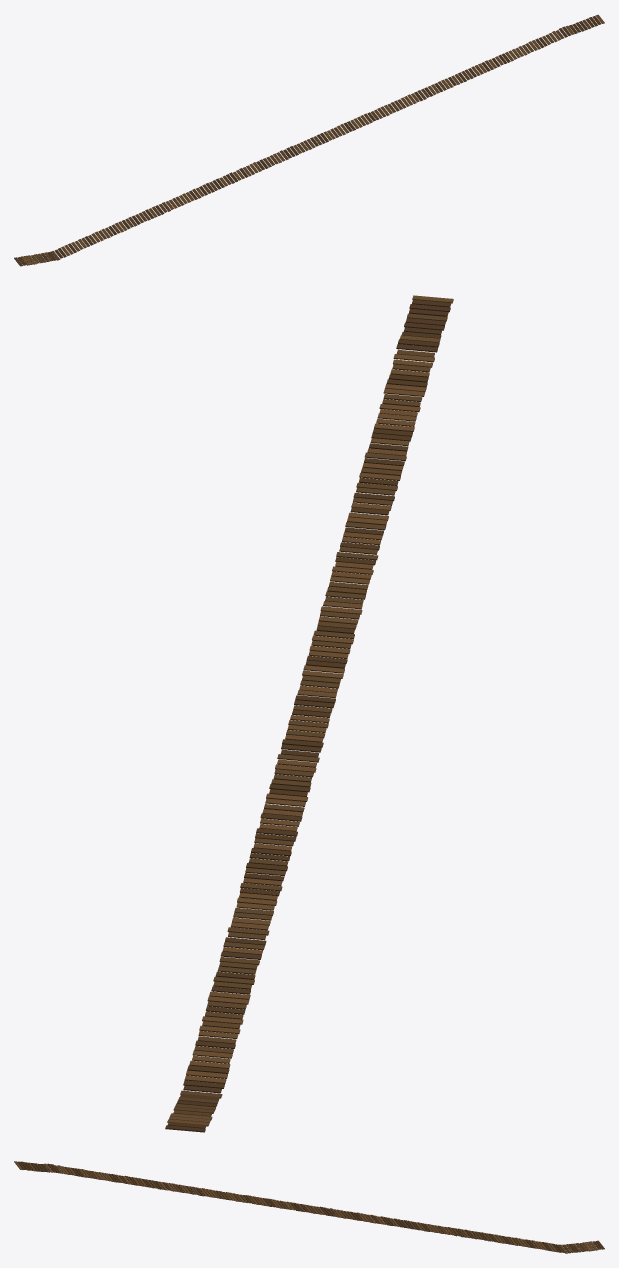
The model's file is SM_Bridge_13_14.fbx.
3 renders of one model, top to bottom at view 1: azimuth 90°, elevation 25°; view 2: azimuth 150°, elevation 25°; view 3: azimuth 270°, elevation 25°, orthographic. The views are drawn at different scales.
Parts seen in each view (by area): view 1: SM_Bridge_13_14; view 2: SM_Bridge_13_14; view 3: SM_Bridge_13_14.
Boxes of the visible parts, left/top/right/bottom form: SM_Bridge_13_14: left=14, top=14, right=604, bottom=266; SM_Bridge_13_14: left=165, top=295, right=453, bottom=1132; SM_Bridge_13_14: left=14, top=1161, right=604, bottom=1253.
Bounding box in the file's own units: 24.4 × 20.46 × 67.66.
